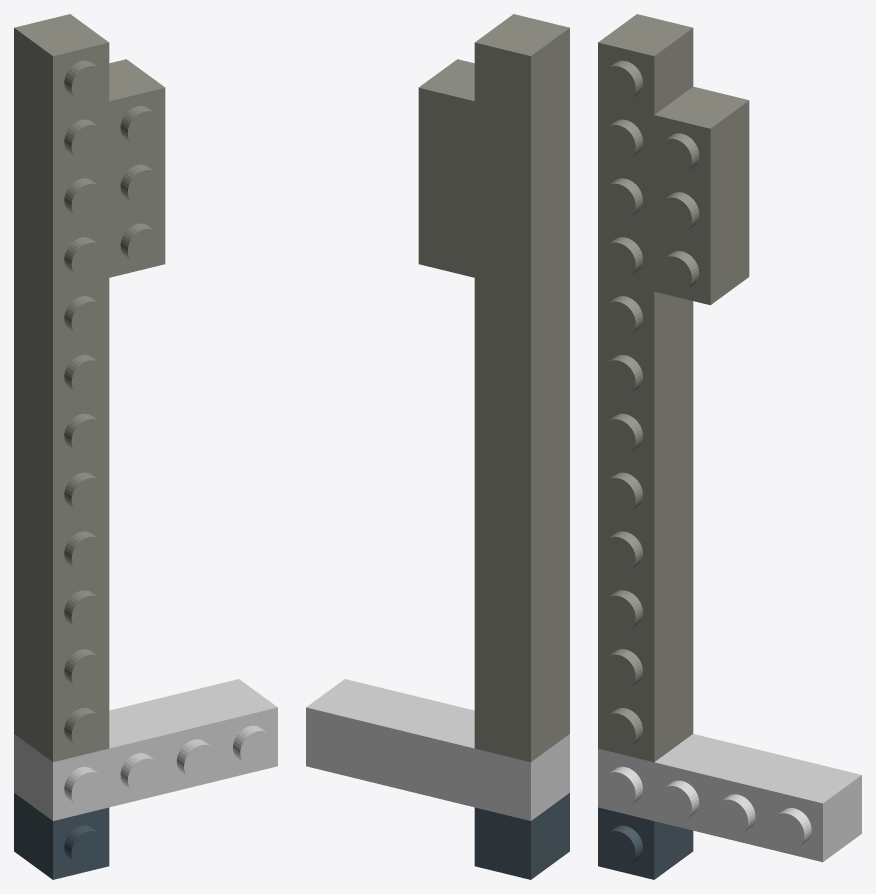
The model's file is current.glb.
The picture shows the model from 3 angles, left to right: view 1: azimuth 30°, elevation 25°; view 2: azimuth 150°, elevation 25°; view 3: azimuth 330°, elevation 25°; orthographic projection.
Parts seen in each view (by area): view 1: world; view 2: world; view 3: world.
Part boxes in pixels (x1=…): world: x1=14, y1=14, x2=277, y2=879; world: x1=306, y1=14, x2=569, y2=879; world: x1=598, y1=14, x2=861, y2=879.
Bounding box in the file's own units: 32 × 112 × 11.4.
